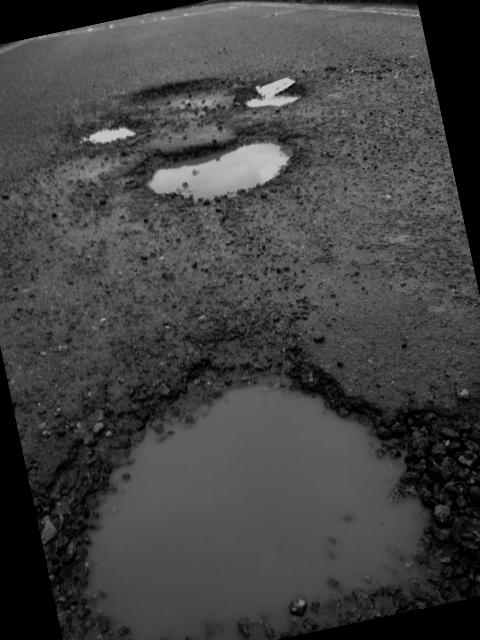Pothole: (22, 308, 480, 640), (110, 122, 310, 235), (124, 57, 259, 146), (237, 61, 319, 127), (65, 105, 140, 166)
